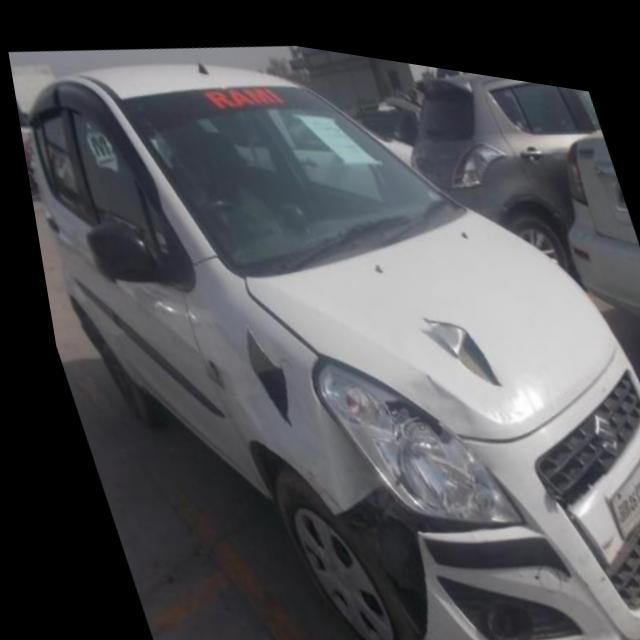crack: (235, 319, 277, 421)
dent: (403, 301, 492, 376), (393, 362, 491, 427)
dislocated part: (316, 474, 515, 630)
lamp broken: (363, 383, 436, 429)
